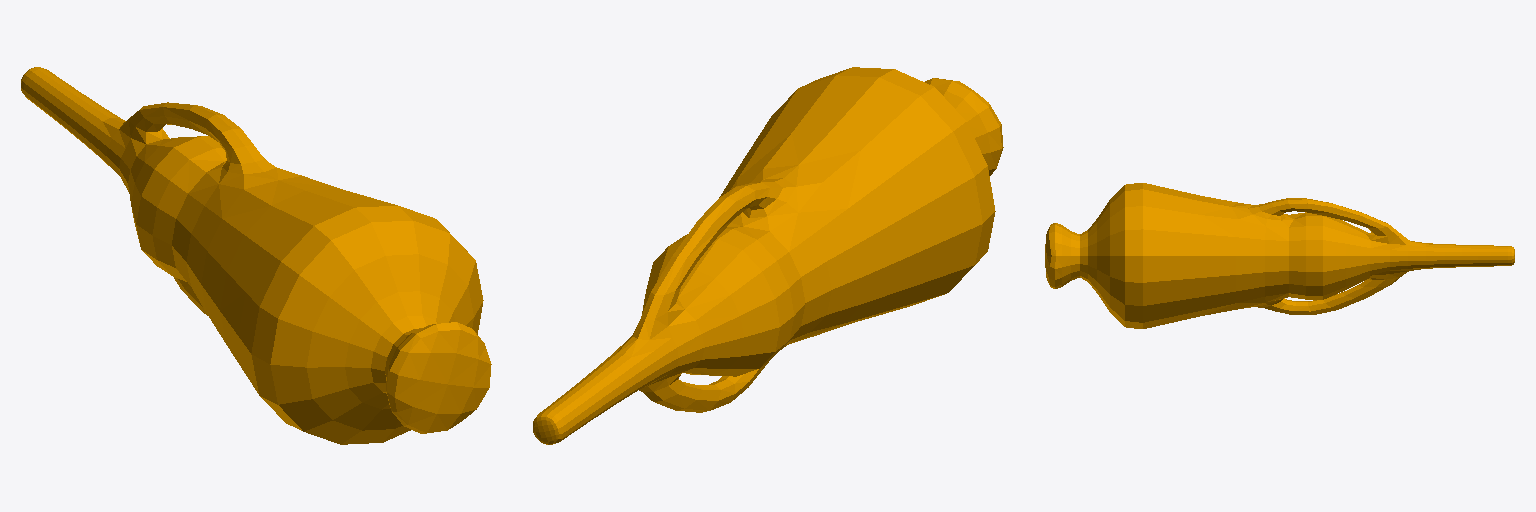
The robot description file, URDF, robot "237":
<?xml version="1.0" ?>
<robot name="237">
  <link name="body">
    <visual>
      <geometry>
        <mesh filename="../shapes/237.obj"/>
      </geometry>
    </visual>
    <collision>
      <geometry>
        <mesh filename="../shapes/237.obj"/>
      </geometry>
    </collision>
  </link>
</robot>

--- Render facts (derived) ---
Views: 3 orthographic renders of the robot side by side, from view 1: azimuth 30°, elevation 25°; view 2: azimuth 150°, elevation 25°; view 3: azimuth 270°, elevation 25°.
Robot: 237 — 1 links, 0 joints (none); root link body; default pose: every joint at zero.
Links seen in each view (by area): view 1: body; view 2: body; view 3: body.
Link boxes in pixels (<box>): body: <box>21,67,491,444</box>; body: <box>533,67,1003,444</box>; body: <box>1045,183,1514,328</box>.
Bounding box of the posed robot: 5.21 × 17.06 × 5.21 m (x, y, z).
1 mesh visuals loaded from 1 distinct referenced files (1 OBJ).